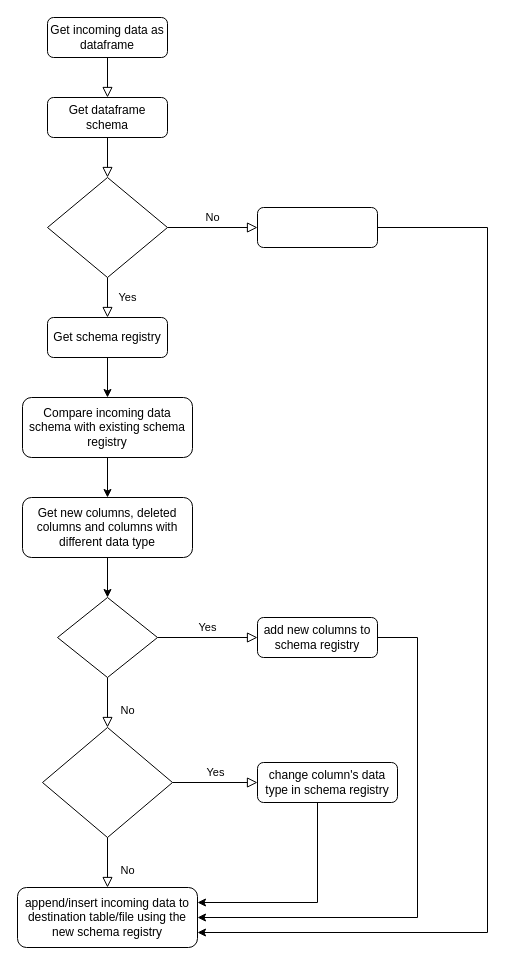
Some shapes in this 513 by 965 pixel diagram are drawn without their labels. Here are the shapes that lost their labels. From the top down, the centre of each, then its label:
(x=107, y=227): schema registry exist?
(x=317, y=227): Create and store schema registry
(x=107, y=637): any new column?
(x=107, y=782): any column with different data type?
